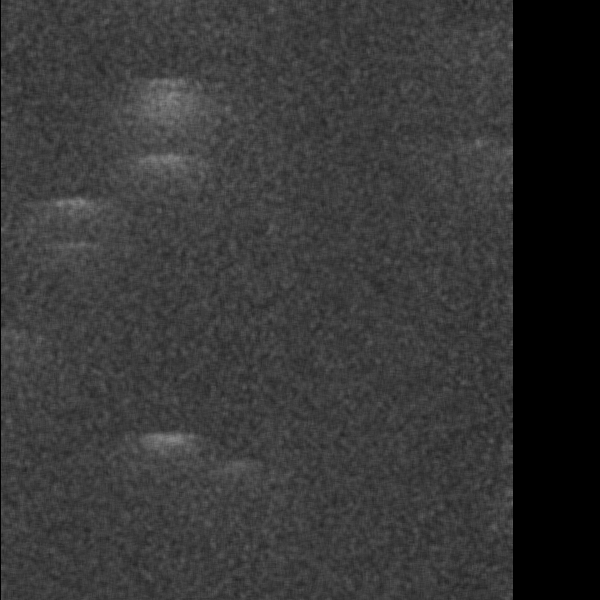spark: (348, 346, 414, 424), (223, 9, 278, 51), (8, 274, 69, 296)
